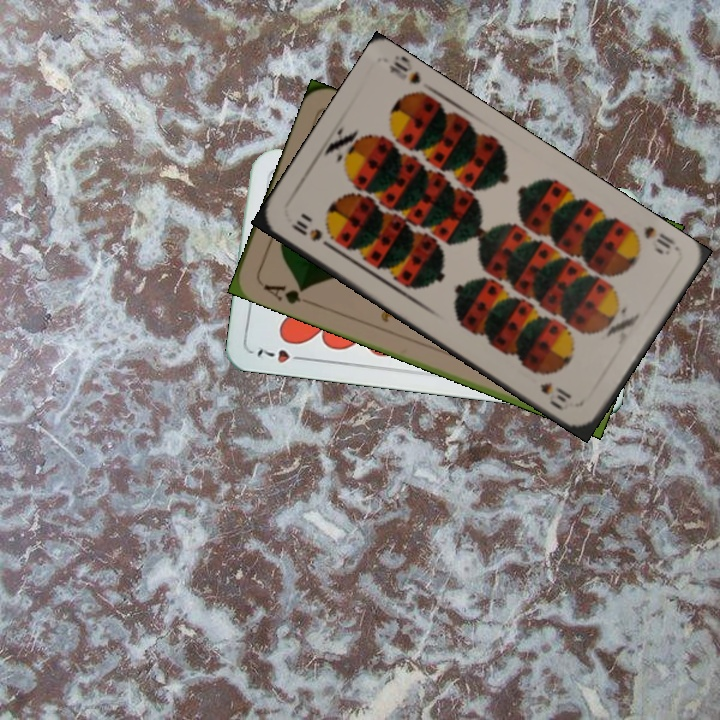GA: (259, 280, 308, 307)
H7: (253, 344, 309, 366)
S10: (287, 216, 336, 253), (640, 222, 678, 252)
